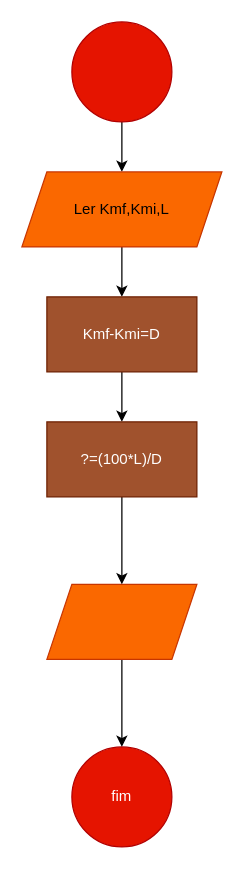
This 244x869 diagram has some shape labels left out. Each missing label, with the centre of its shape:
Inicio: the point at 121,71
Quantos L gastos: the point at 121,621
